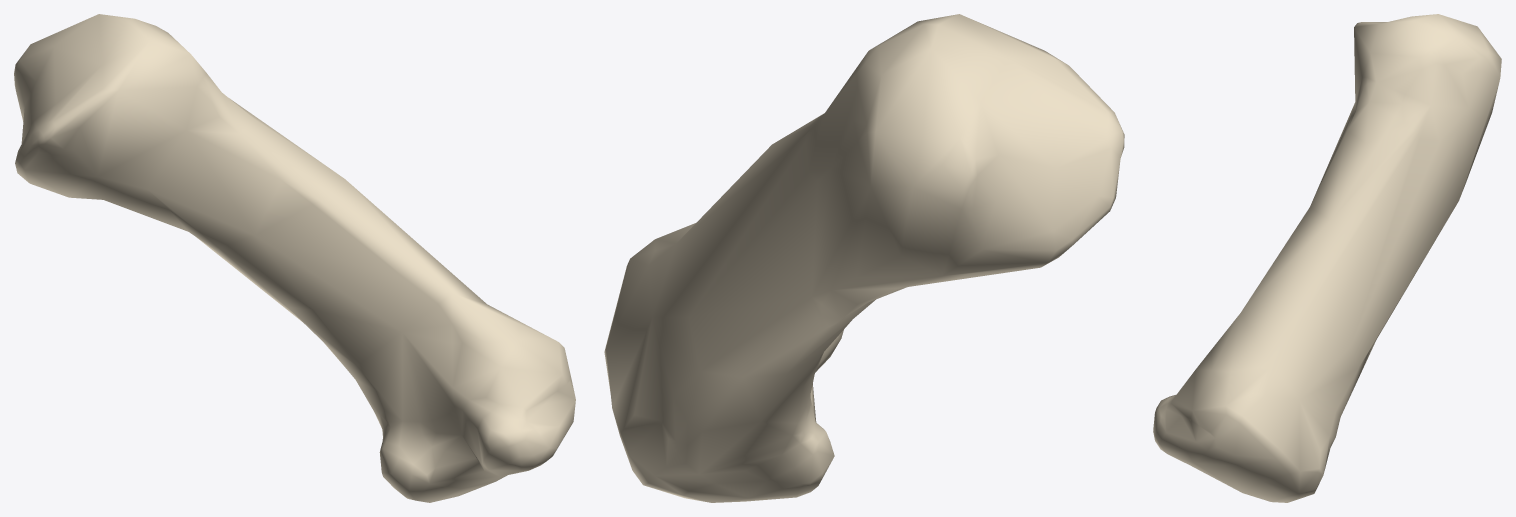
Rendered from first-metacarpal-bone-l.glb.
The picture shows the model from 3 angles, left to right: view 1: azimuth 30°, elevation 25°; view 2: azimuth 150°, elevation 25°; view 3: azimuth 270°, elevation 25°; orthographic projection. The views are drawn at different scales.
Visible parts, largest first — view 1: First metacarpal bone.l; view 2: First metacarpal bone.l; view 3: First metacarpal bone.l.
Boxes of the visible parts, x1,y1,x2,y2 form: First metacarpal bone.l: (14, 14, 575, 502); First metacarpal bone.l: (604, 14, 1124, 502); First metacarpal bone.l: (1153, 14, 1501, 502).
Size of the model in its own units: 0.0387 by 0.0384 by 0.0315.
